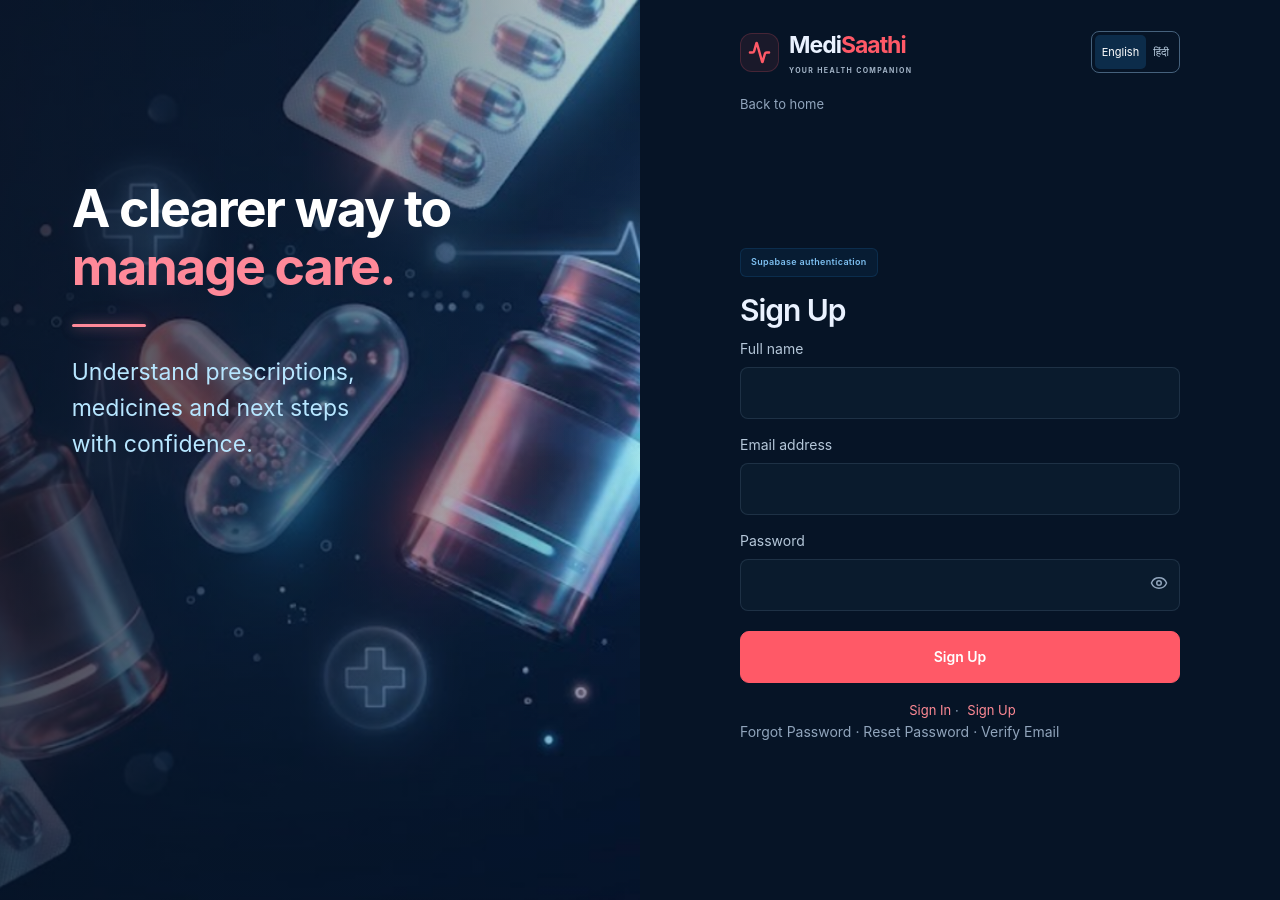
Test: signs up with provider verification instructions, never a fake logged-in session
The width and height of the screenshot is (1280, 900).
Type "Fictional user" into the field labelled "Full name" at point(960, 393), box [740,367,1180,419]
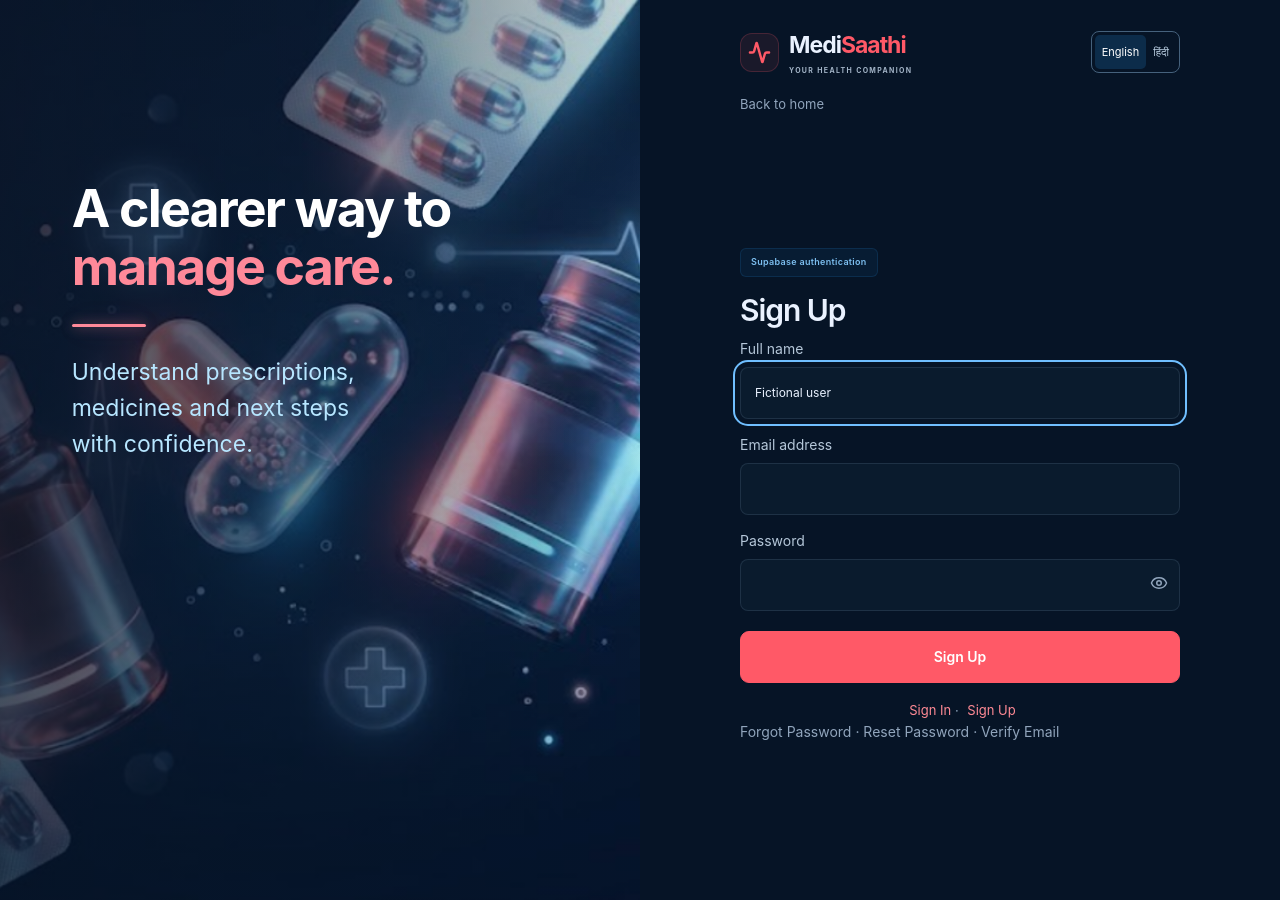
Type "fictional@example.test" into the field labelled "Email address" at point(960, 489), box [740,463,1180,515]
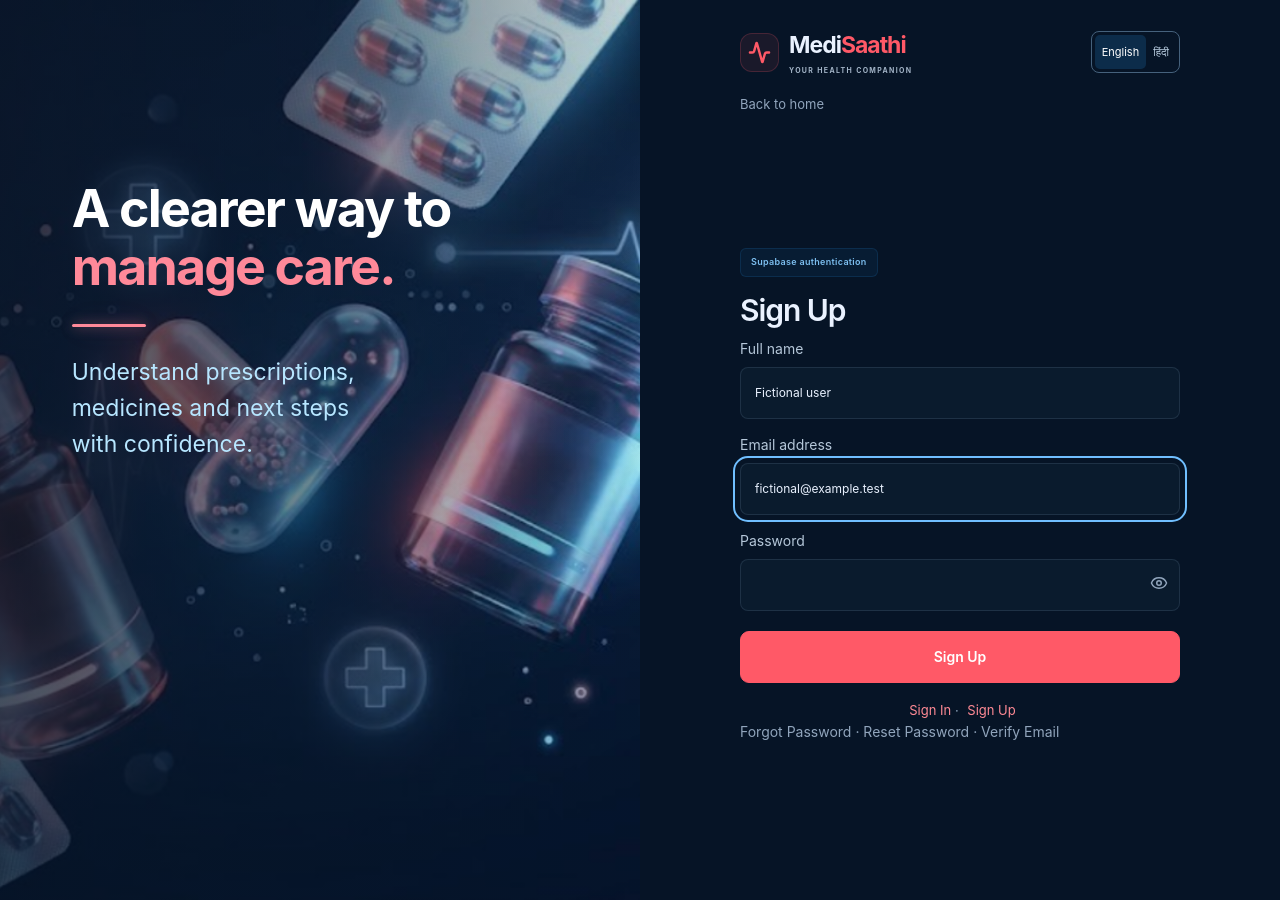
Type "fictional-password-16E" into the password field labelled "Password" at point(960, 585), box [740,559,1180,611]
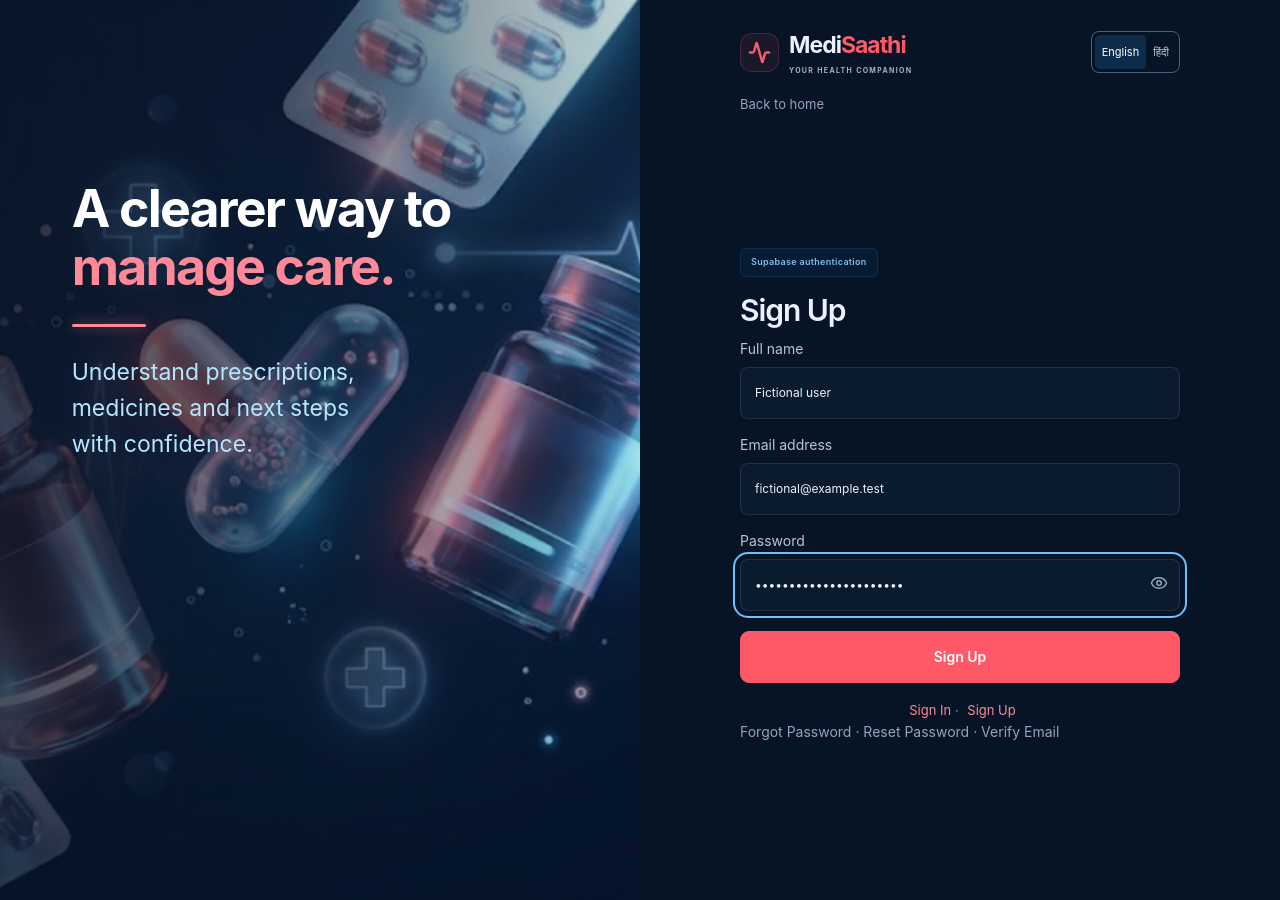
Click the button "Sign Up" at point(960, 657), box [740,631,1180,683]
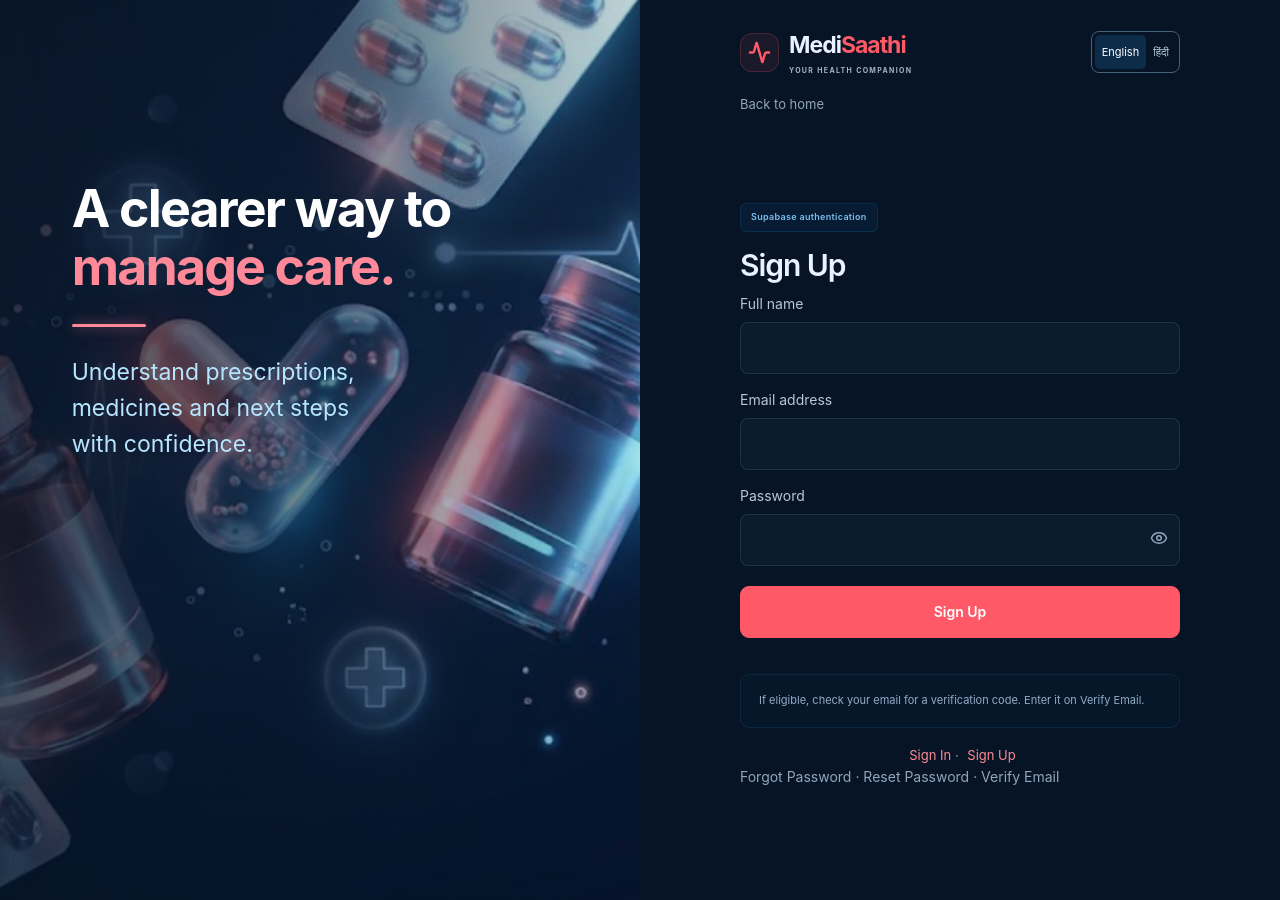
Check: the text "If eligible, check your email" is shown, box [759,693,1144,707]
